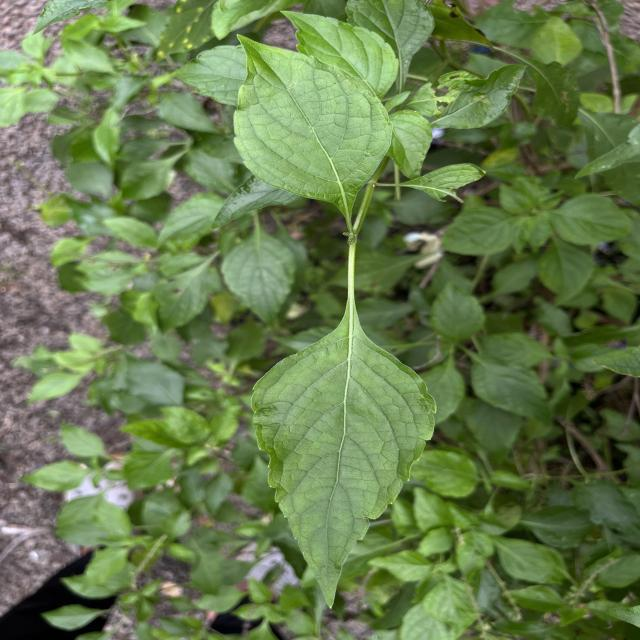Ocimum gratissimum: (247, 275, 441, 611), (230, 28, 395, 220), (275, 5, 405, 103)
